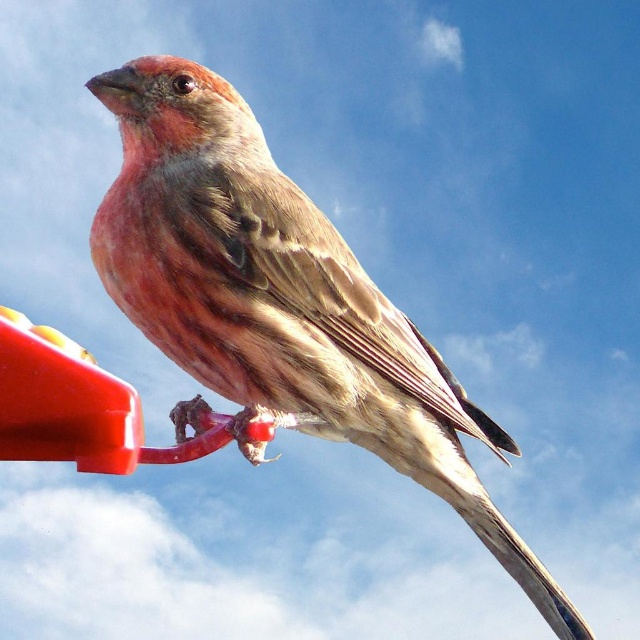Canary: (81, 49, 599, 640)
